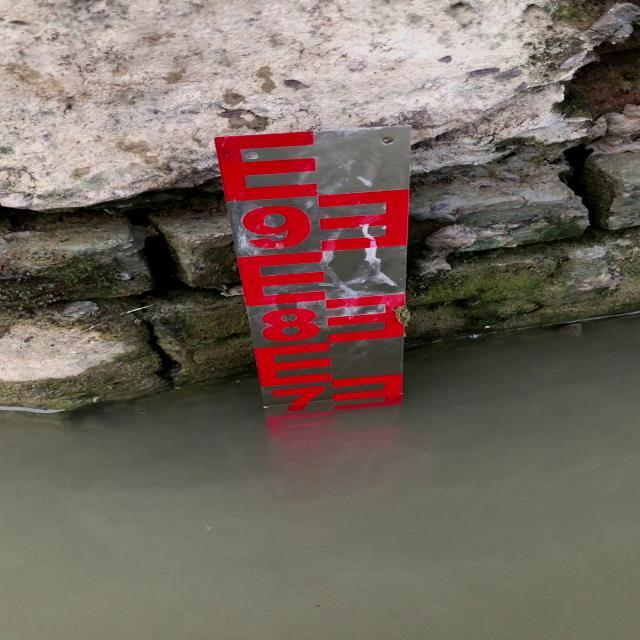ruler: (190, 113, 438, 426)
value: (225, 195, 326, 259), (246, 302, 332, 350)
